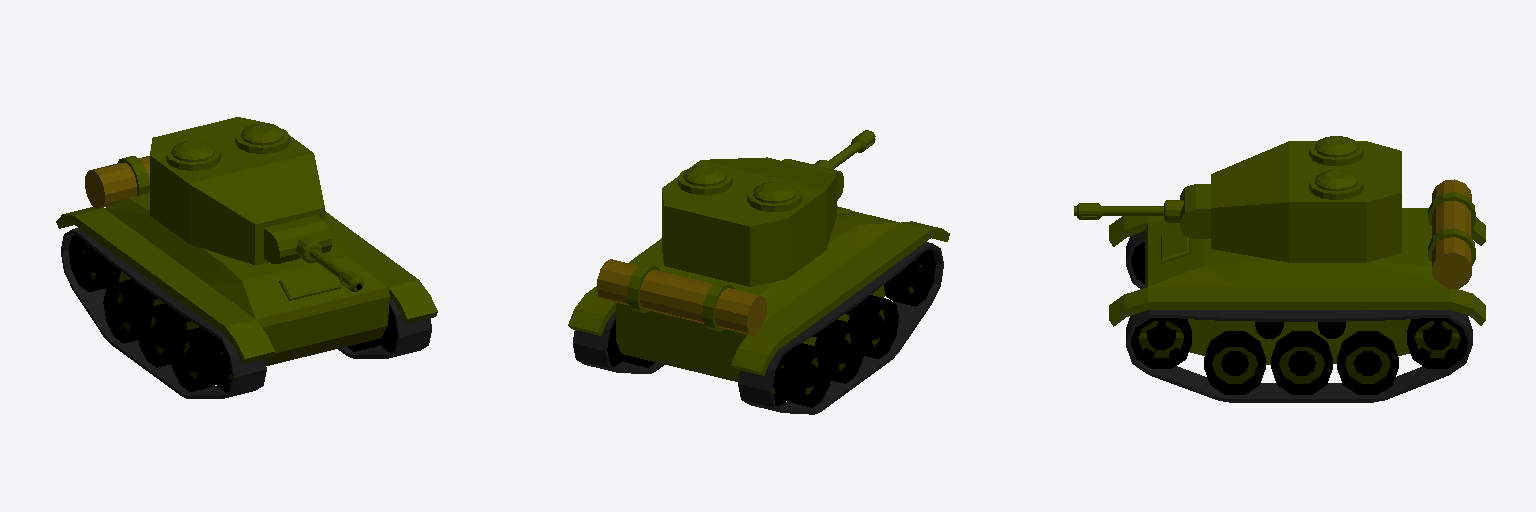
The picture shows the model from 3 angles: view 1: azimuth 30°, elevation 25°; view 2: azimuth 150°, elevation 25°; view 3: azimuth 270°, elevation 25°; orthographic projection.
Visible parts, largest first — view 1: Cylinder; view 2: Cylinder; view 3: Cylinder.
Part boxes in pixels (bbox=[...]): Cylinder: bbox=[56, 117, 437, 398]; Cylinder: bbox=[568, 130, 949, 414]; Cylinder: bbox=[1074, 136, 1485, 402].
Bounding box in the file's own units: 1.99 × 1.88 × 3.59.
1 materials, 1 textured.